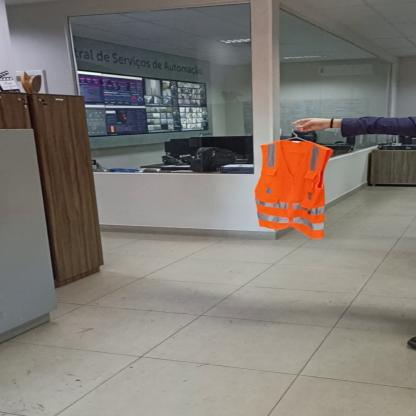colete: (250, 136, 334, 238)
